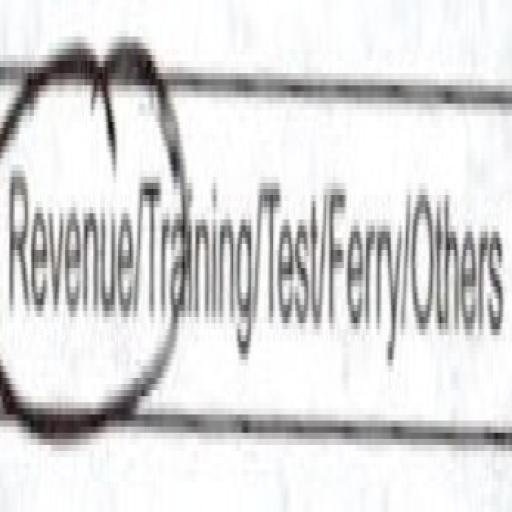check: (0, 0, 140, 500)
